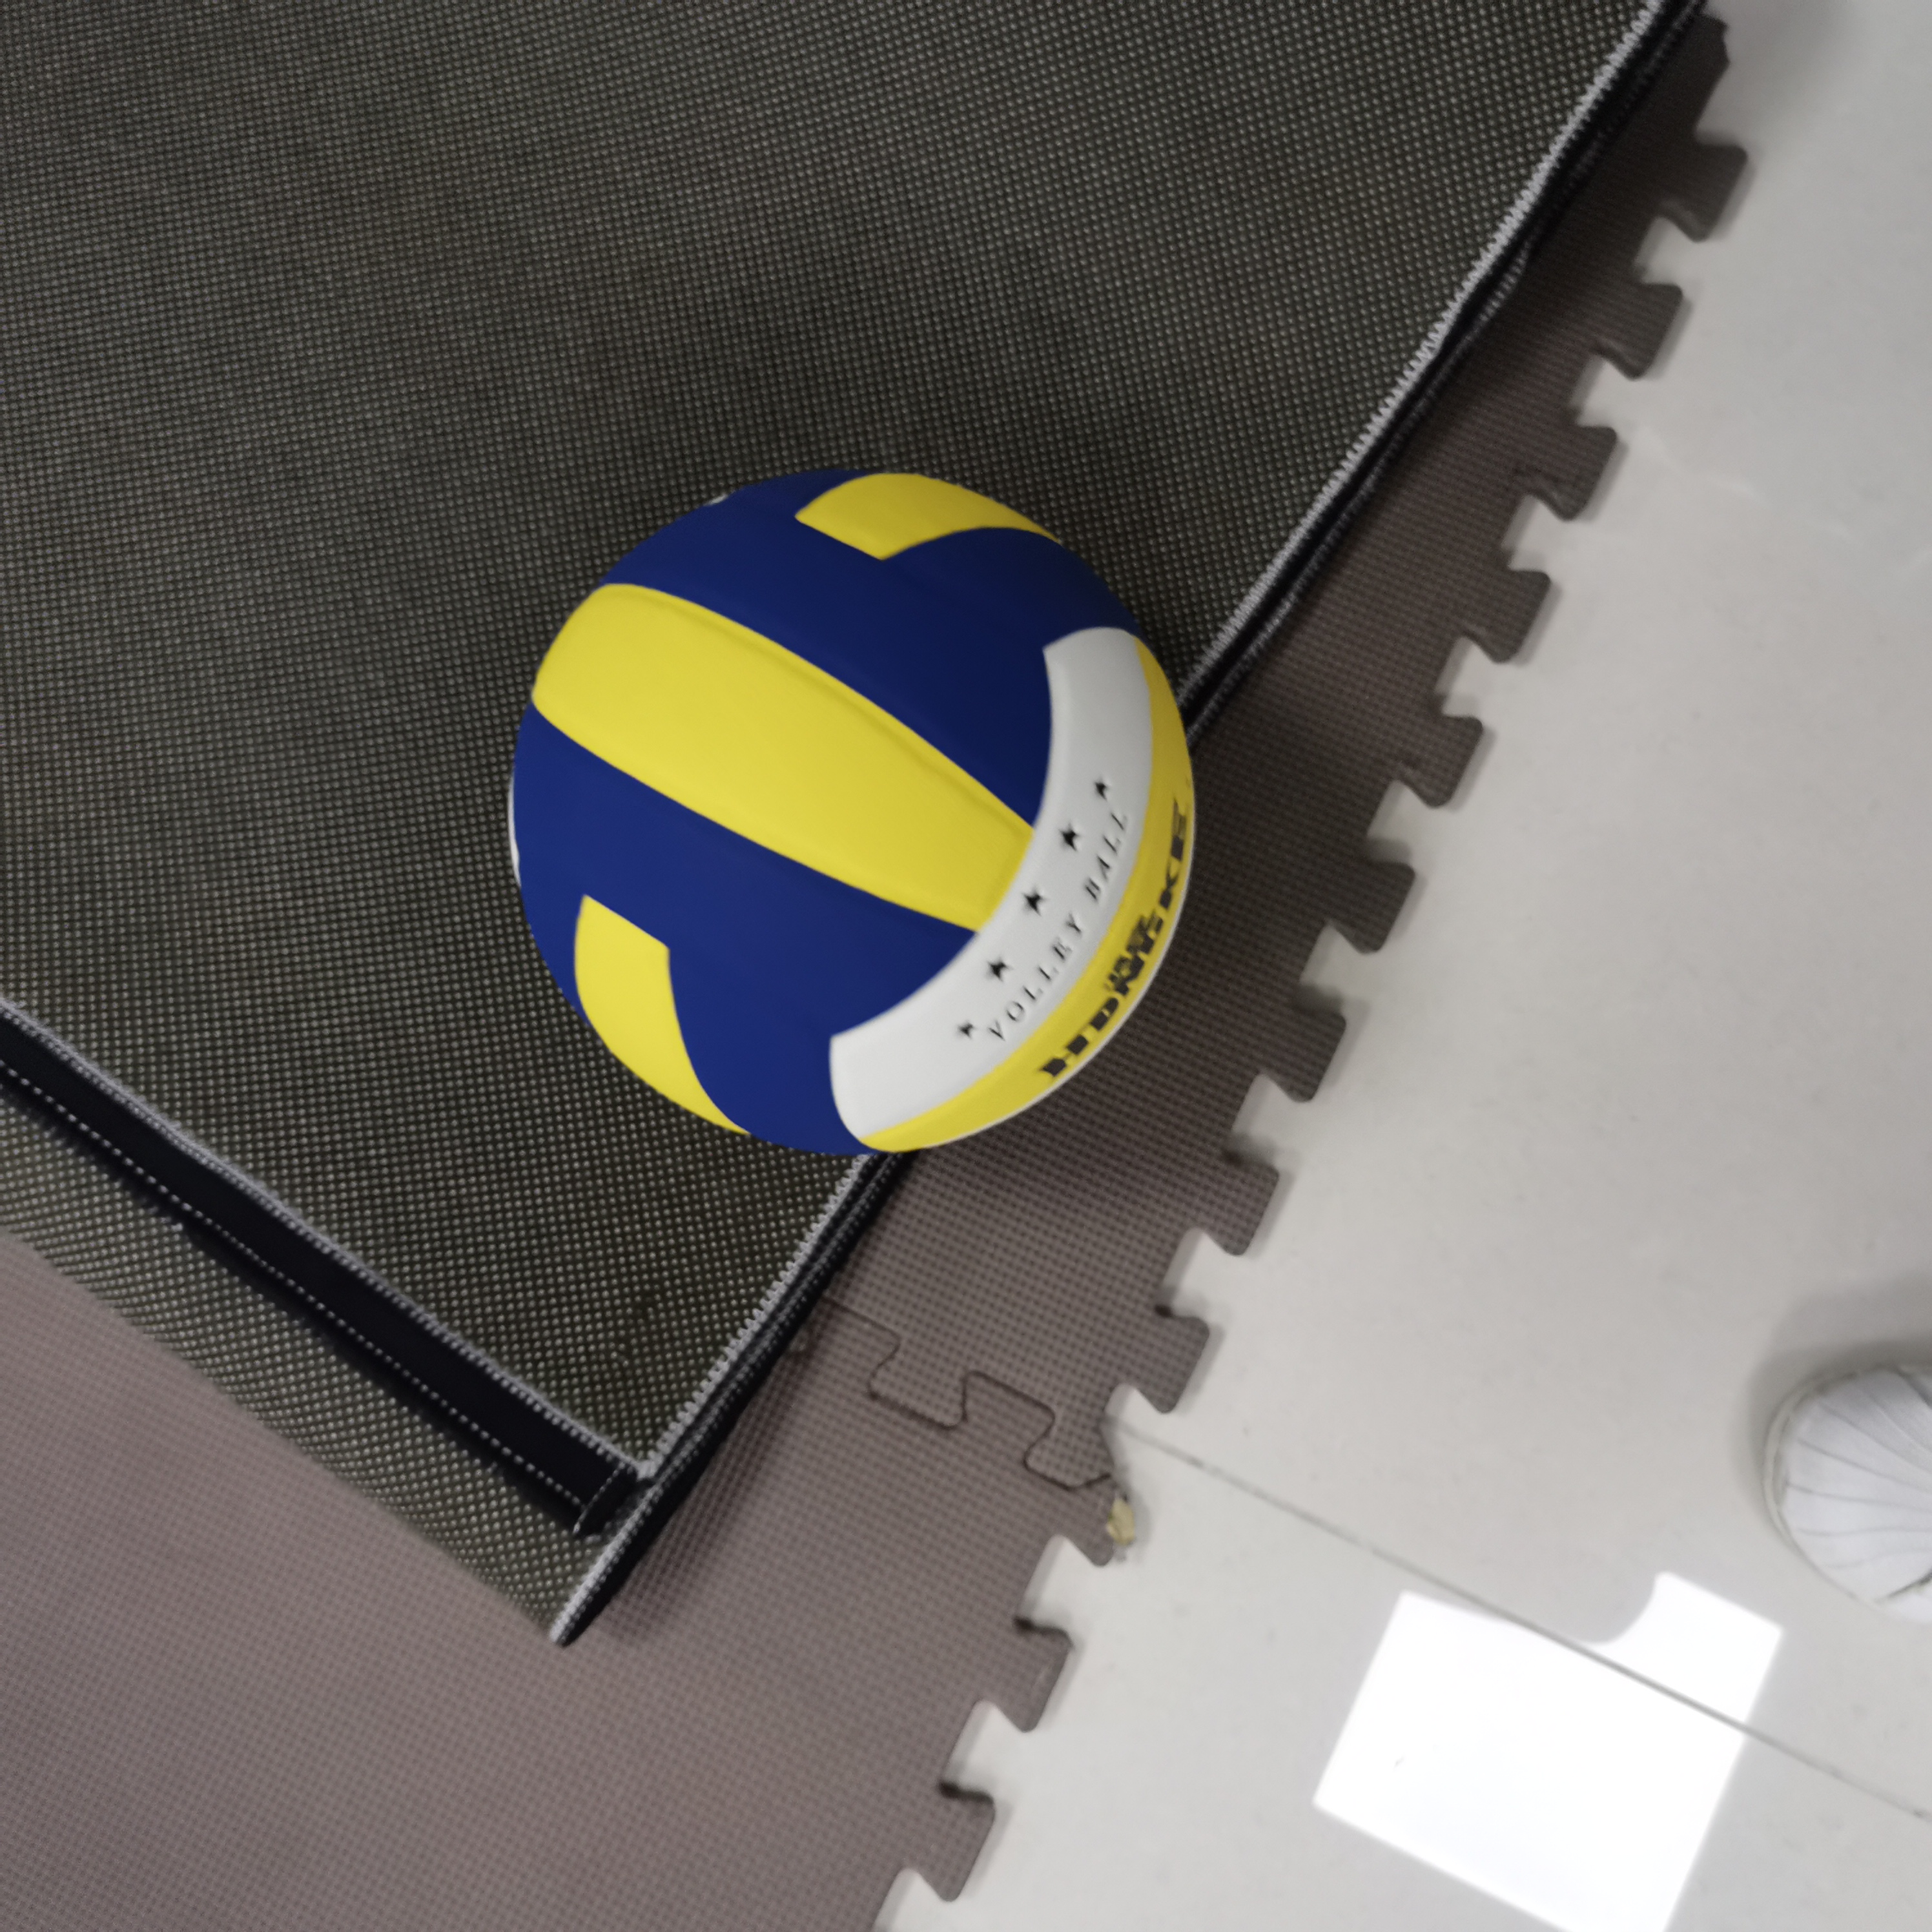volleyball: (511, 465, 1200, 1159)
